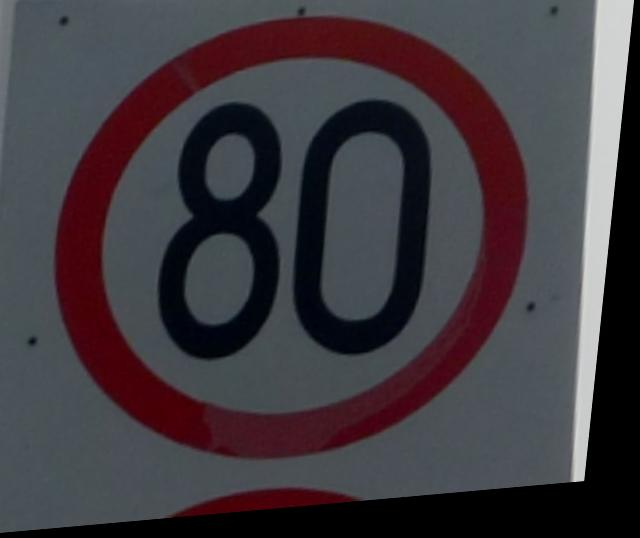limit80: (24, 0, 572, 492)
